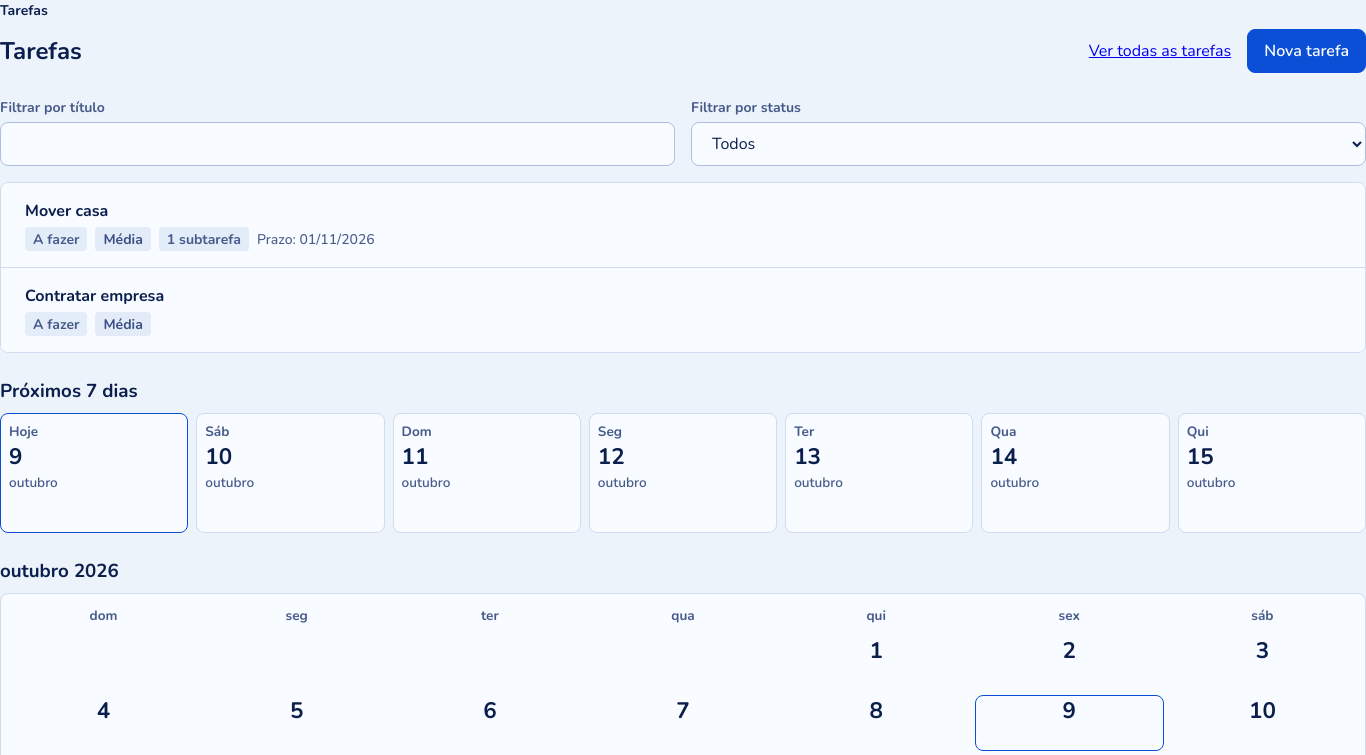
it: TasksPage › abre o detalhe da subtarefa com breadcrumb Tarefas / pai / subtarefa
Click the button "Contratar empresa A fazer Média". click: (95, 296)
box: [1,268,1365,352]
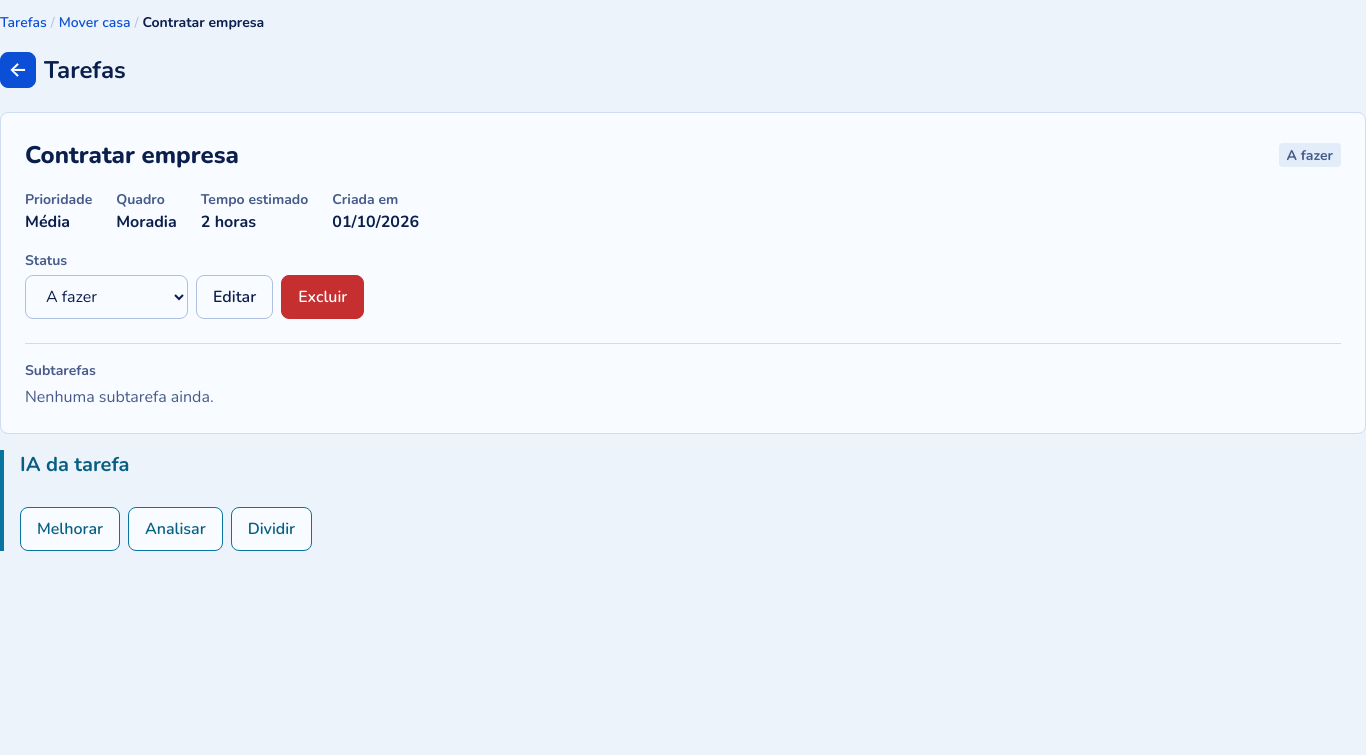
Expected: the link "Tarefas" is shown, [0,12,47,32]
Expected: the text "Contratar empresa" is shown, [142,12,264,32]
